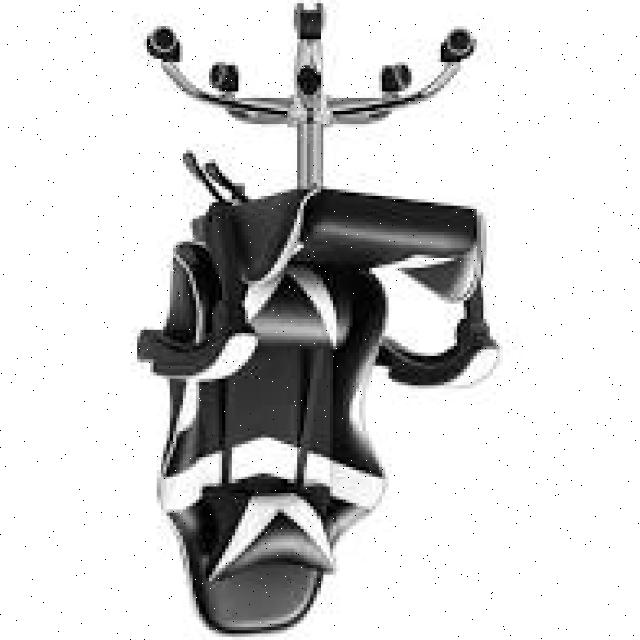bottle: (131, 2, 504, 633)
